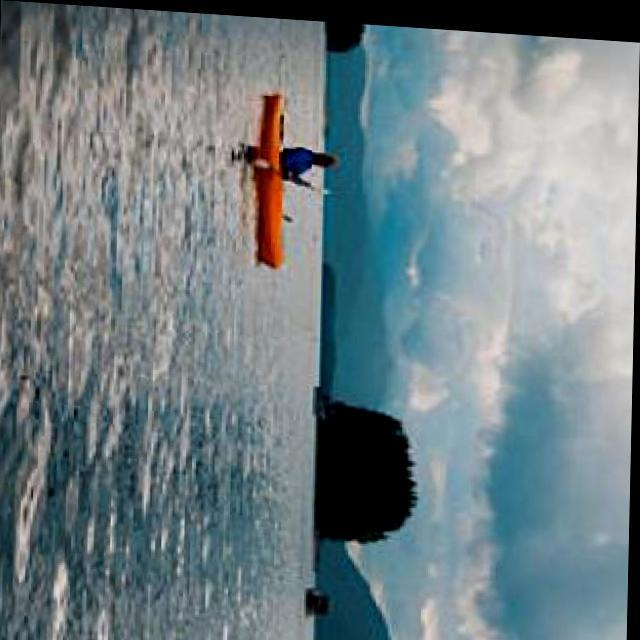kayak: (250, 90, 294, 262)
